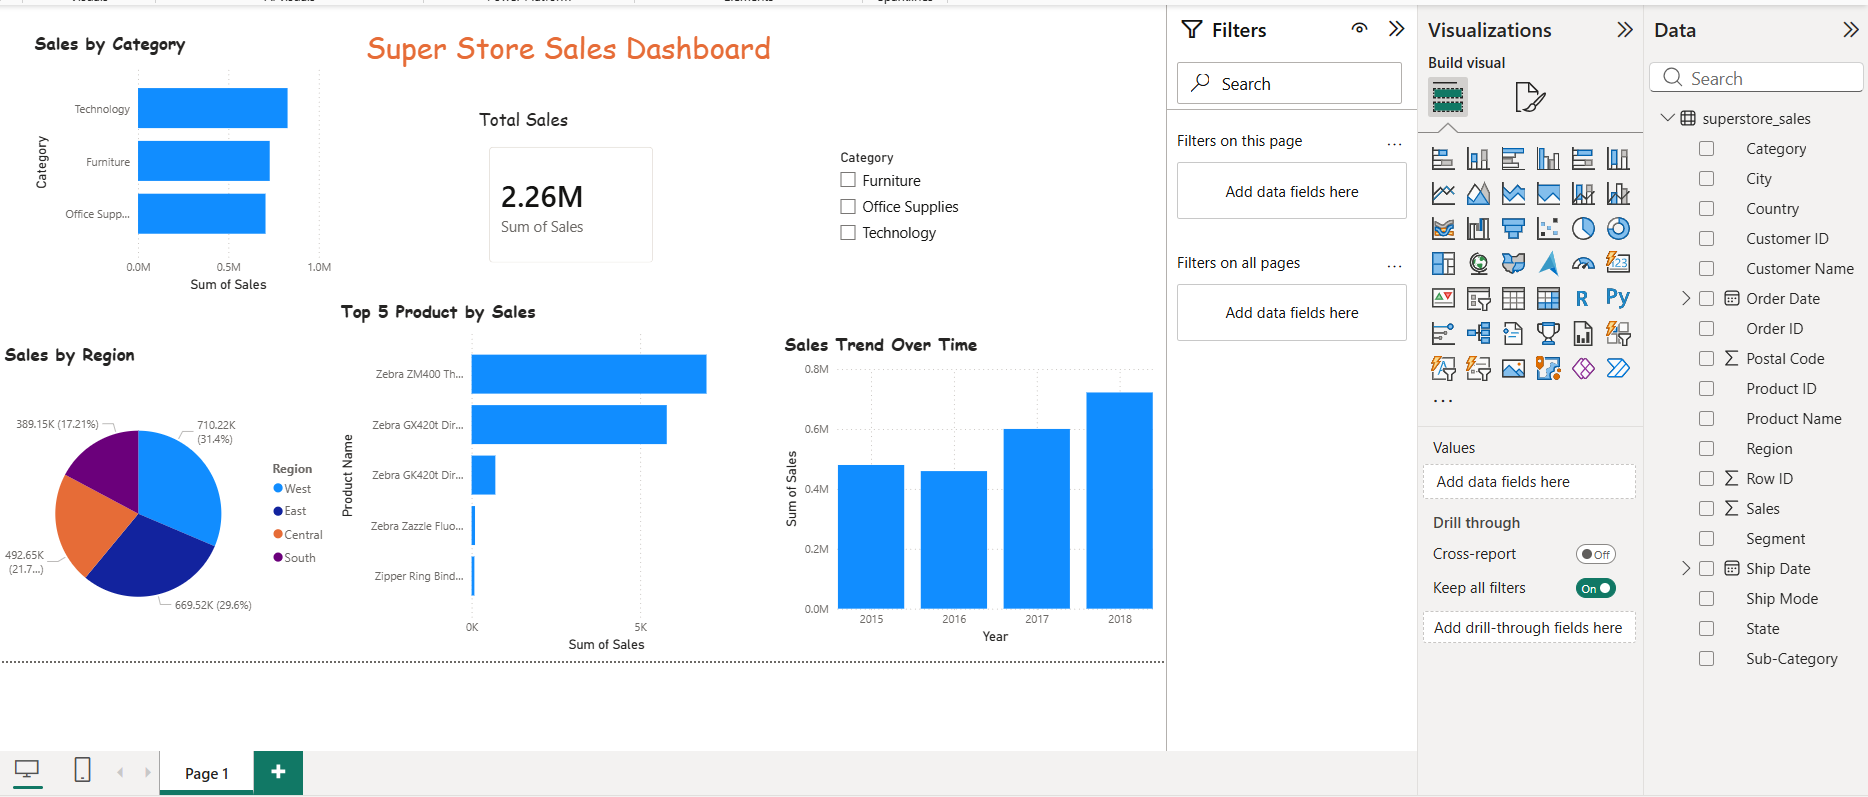

Layout of this report page (visuals, bound fields, positions):
{"tool":"powerbi","page":{"name":"Page 1","canvas":[1280,720],"ordinal":0},"visuals":[{"type":"cardVisual","title":"Total Sales","fields":{"Data":["Sum(superstore_sales.Sales)"]},"box":[520.1,112.5,214.1,188],"z":0},{"type":"clusteredBarChart","title":"Sales by Category","fields":{"Category":["superstore_sales.Category"],"Y":["Sum(superstore_sales.Sales)"]},"box":[32.9,28.8,336.2,290.9],"z":1000},{"type":"pieChart","title":" Sales by Region","fields":{"Category":["superstore_sales.Region"],"Y":["Sum(superstore_sales.Sales)"]},"box":[0,370.5,369.1,349.9],"z":2000},{"type":"lineStackedColumnComboChart","title":"Sales Trend Over Time","fields":{"Category":["superstore_sales.Order Date.Variation.Date Hierarchy.Year","superstore_sales.Order Date.Variation.Date Hierarchy.Quarter","superstore_sales.Order Date.Variation.Date Hierarchy.Month","superstore_sales.Order Date.Variation.Date Hierarchy.Day"],"Y":["Sum(superstore_sales.Sales)"]},"box":[856.3,359.5,414.4,347.2],"z":3000},{"type":"barChart","title":"Top 5 Product by Sales","fields":{"Category":["superstore_sales.Product Name"],"Y":["Sum(superstore_sales.Sales)"]},"box":[369.1,322.5,456.9,392.5],"z":4000},{"type":"slicer","fields":{"Values":["superstore_sales.Category"]},"box":[909.8,153.7,336.2,129],"z":4001},{"type":"textbox","box":[396.6,19.2,459.7,78.2],"z":4002}]}

Visuals, with their boxes on the page's 1280x720 design canvas (x1, y1, x2, y2). These are canvas units, not pixel positions in the 1868x797 screenshot, which may show the page scaled, cropped or inside an application window:
"Total Sales" cardVisual: bbox=(520, 112, 734, 300)
"Sales by Category" clusteredBarChart: bbox=(33, 29, 369, 320)
" Sales by Region" pieChart: bbox=(0, 370, 369, 720)
"Sales Trend Over Time" lineStackedColumnComboChart: bbox=(856, 360, 1271, 707)
"Top 5 Product by Sales" barChart: bbox=(369, 322, 826, 715)
slicer - superstore_sales.Category: bbox=(910, 154, 1246, 283)
textbox: bbox=(397, 19, 856, 97)
